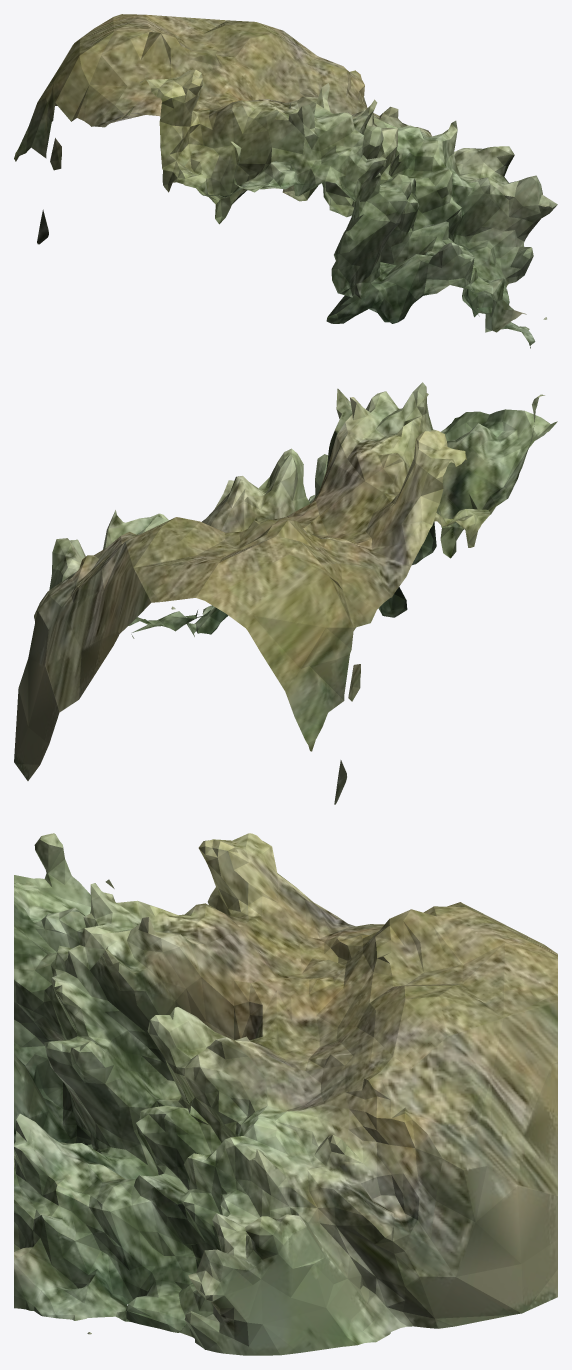
The picture shows the model from 3 angles, top to bottom: view 1: azimuth 30°, elevation 25°; view 2: azimuth 150°, elevation 25°; view 3: azimuth 270°, elevation 25°; orthographic projection. The views are drawn at different scales.
Bounding box in the file's own units: 11.43 × 7.8 × 11.8.
Materials: 4 (4 with a texture image).
